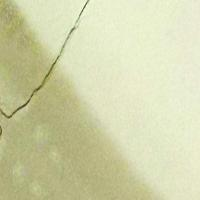crack: (3, 4, 94, 144)
